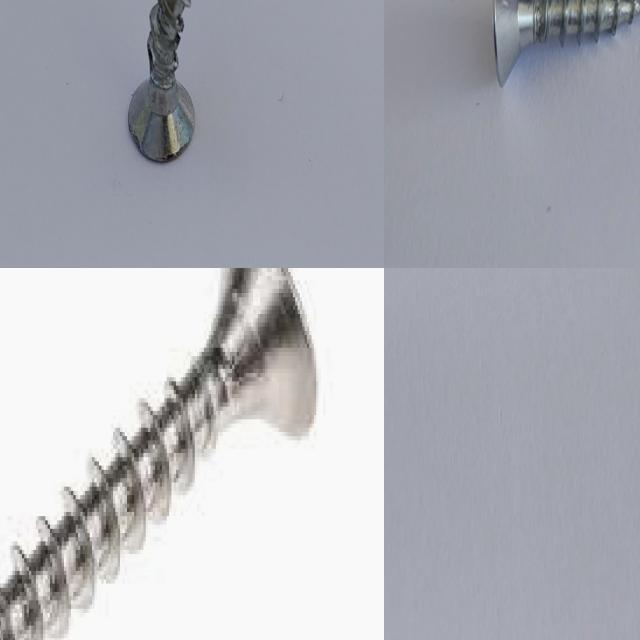Screw: (0, 268, 314, 640), (492, 0, 640, 86), (128, 0, 194, 161)
